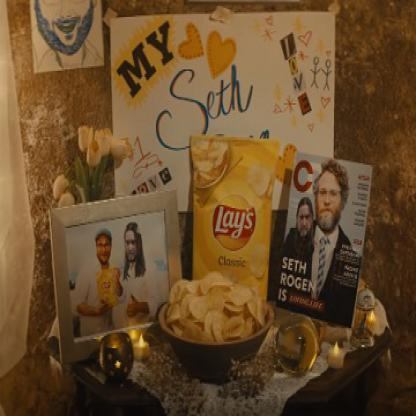potatochip: (187, 134, 281, 321)
